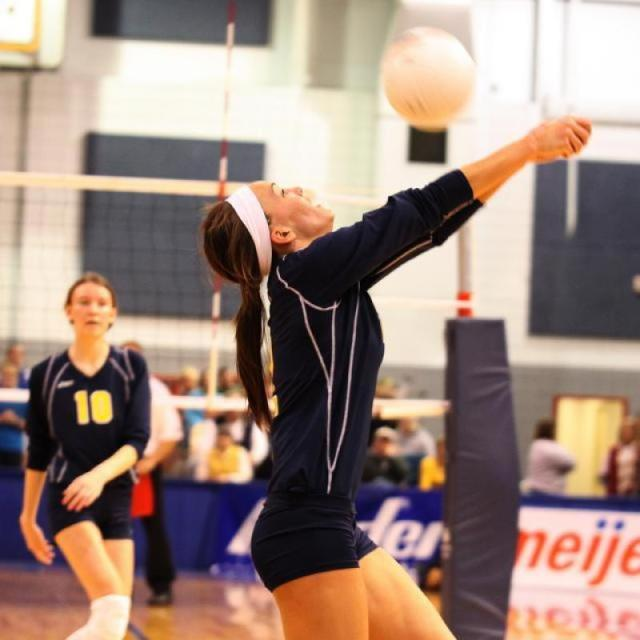volleyball: (381, 25, 477, 130)
